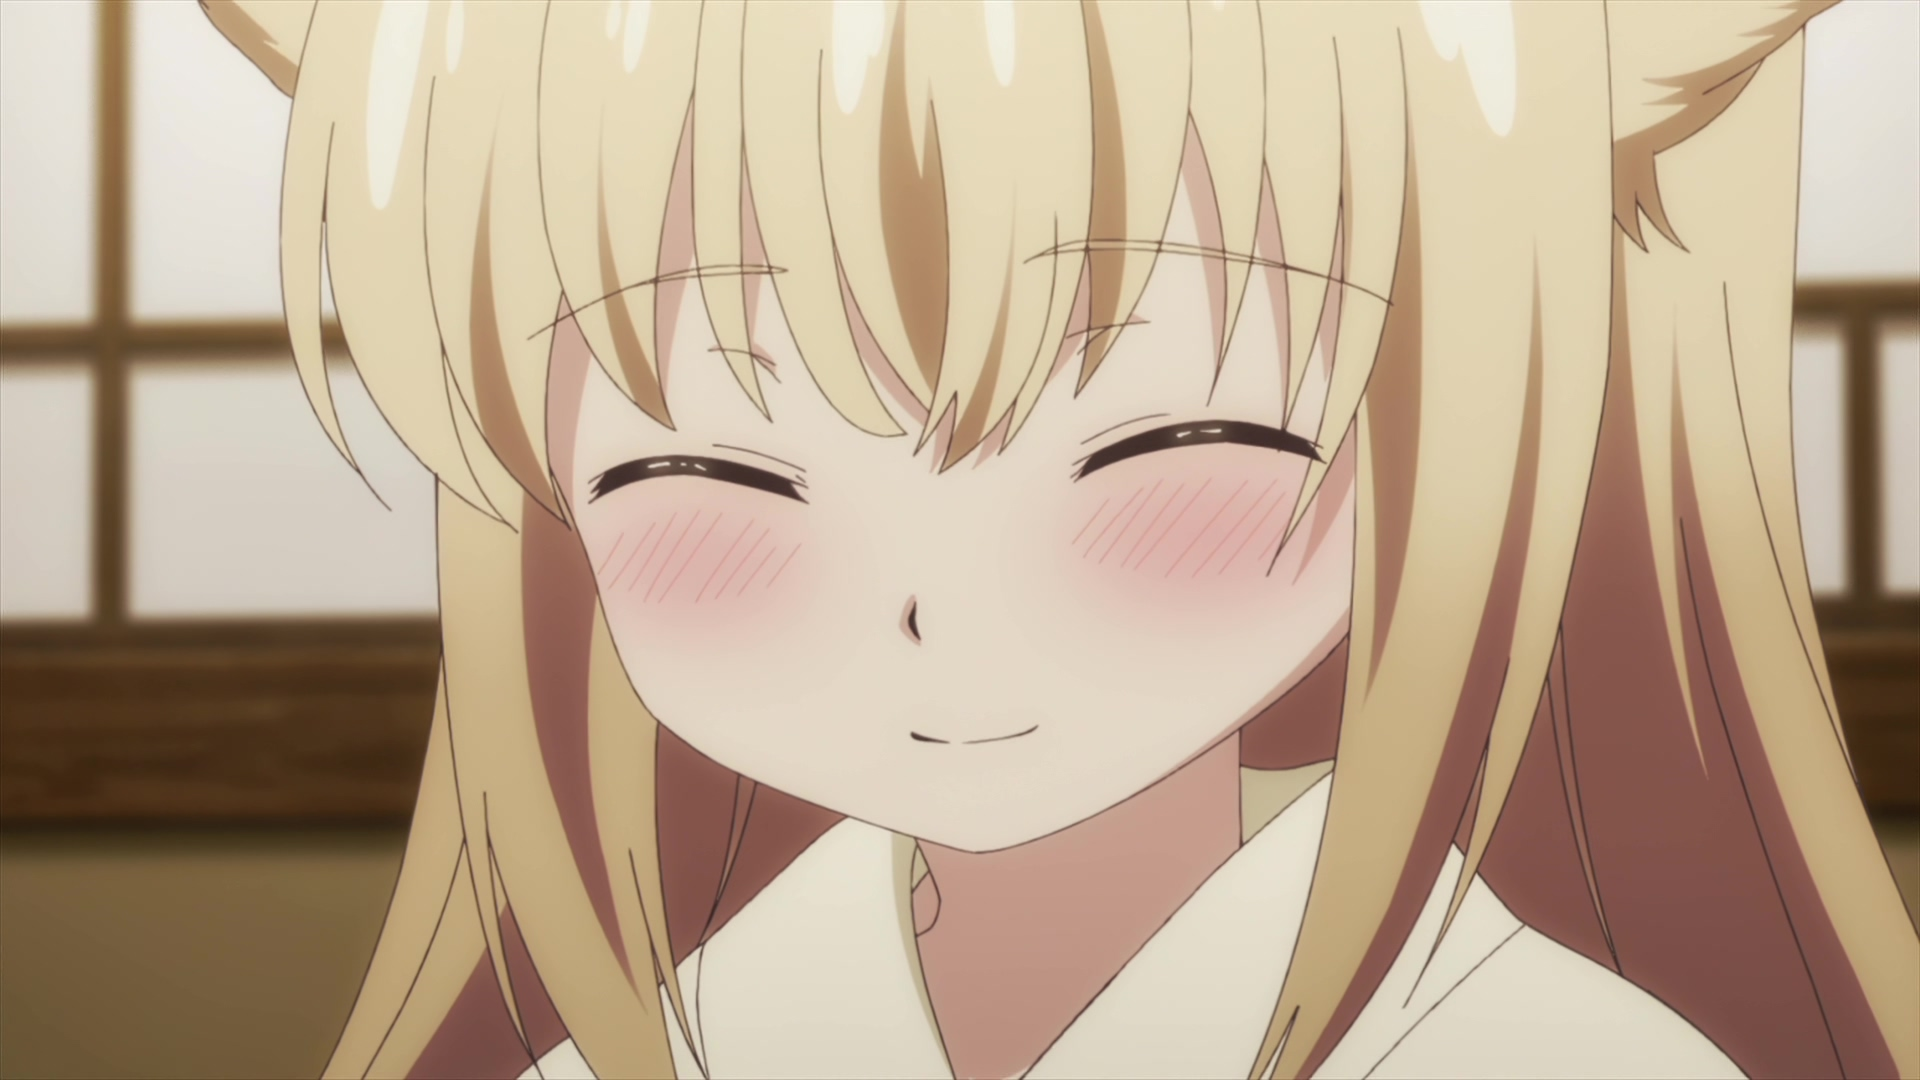柚: (196, 1, 1920, 1080)
